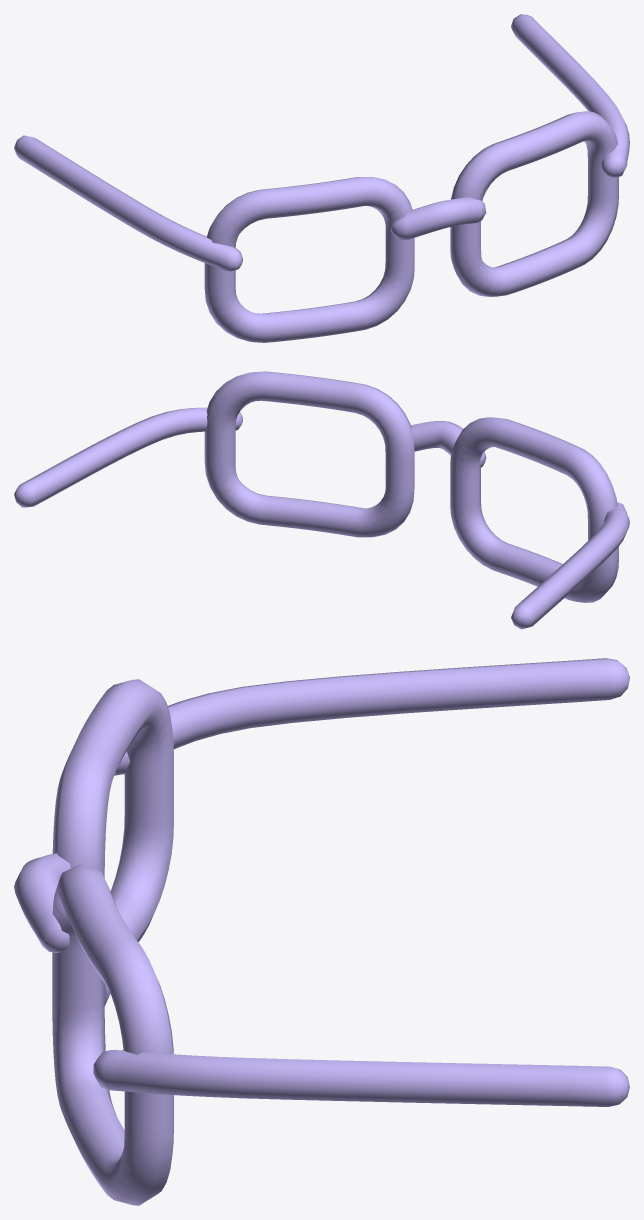
File: glasses-square.glb
3 views of the same model, one above another, from view 1: azimuth 30°, elevation 25°; view 2: azimuth 150°, elevation 25°; view 3: azimuth 270°, elevation 25° (orthographic). The views are drawn at different scales.
Visible parts, largest first — view 1: glasses-square-mesh; view 2: glasses-square-mesh; view 3: glasses-square-mesh.
Boxes of the visible parts, left/top/right/bottom form: glasses-square-mesh: left=14, top=14, right=629, bottom=342; glasses-square-mesh: left=14, top=371, right=629, bottom=629; glasses-square-mesh: left=14, top=658, right=629, bottom=1205.
Bounding box in the file's own units: 0.9197 × 0.258 × 0.5619.
